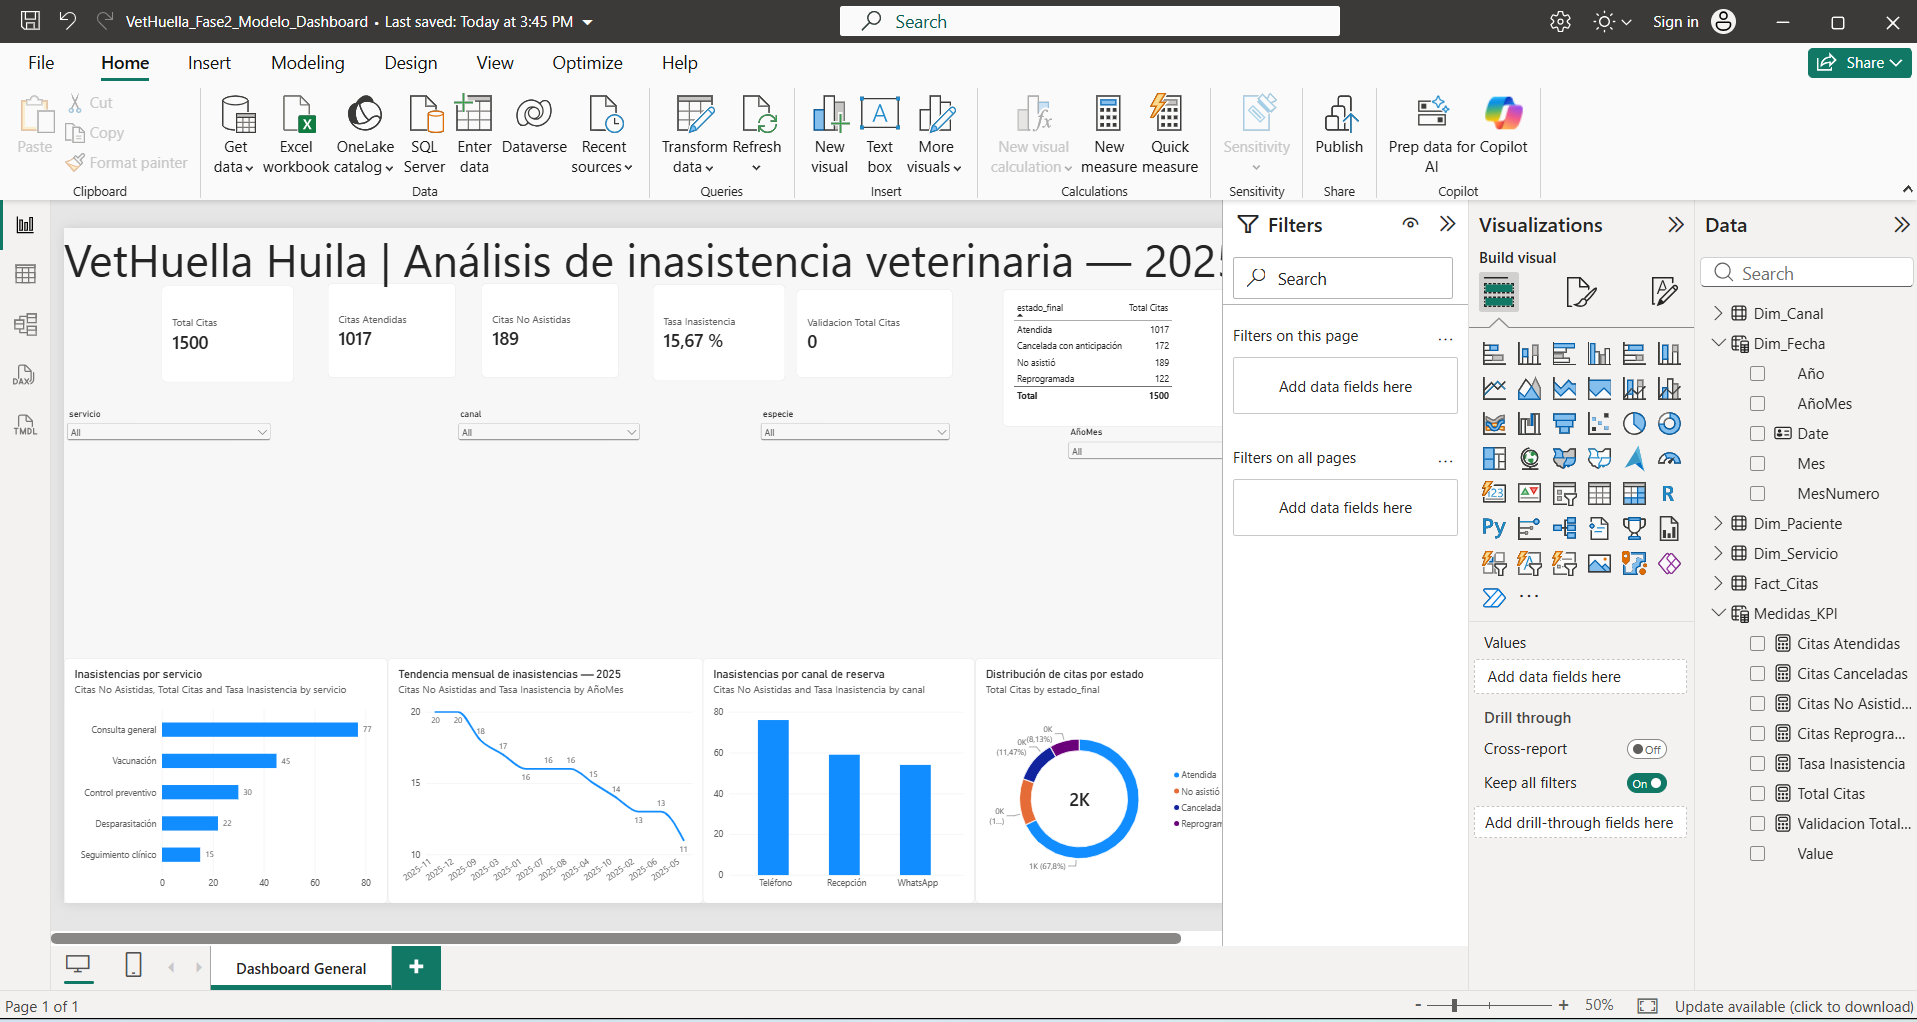

The page's visual inventory and layout, read from the dashboard file:
{"tool":"powerbi","page":{"name":"Dashboard General","canvas":[1920,1080],"ordinal":0},"visuals":[{"type":"cardVisual","fields":{"Data":["Medidas_KPI.Total Citas"]},"box":[155,92.5,212.5,155],"z":0},{"type":"cardVisual","fields":{"Data":["Medidas_KPI.Citas Atendidas"]},"box":[422.5,87.5,205,152.5],"z":1000},{"type":"cardVisual","fields":{"Data":["Medidas_KPI.Citas No Asistidas"]},"box":[667.5,87.5,220,152.5],"z":2000},{"type":"cardVisual","fields":{"Data":["Medidas_KPI.Tasa Inasistencia"]},"box":[942.5,90,212.5,155],"z":3000},{"type":"cardVisual","fields":{"Data":["Medidas_KPI.Validacion Total Citas"]},"box":[1172.5,97.5,250,142.5],"z":4000},{"type":"tableEx","fields":{"Values":["Fact_Citas.estado_final","Medidas_KPI.Total Citas"]},"box":[1502.5,97.5,417.5,220],"z":5000},{"type":"clusteredBarChart","title":"Inasistencias por servicio","fields":{"Category":["Dim_Servicio.servicio"],"Y":["Medidas_KPI.Citas No Asistidas"]},"box":[0,687.5,517.5,392.5],"z":6000},{"type":"lineChart","title":"Tendencia mensual de inasistencias — 2025","fields":{"Category":["Dim_Fecha.AñoMes"],"Y":["Medidas_KPI.Citas No Asistidas"]},"box":[510,687,505,392.5],"z":7000},{"type":"clusteredColumnChart","title":"Inasistencias por canal de reserva","fields":{"Category":["Dim_Canal.canal"],"Y":["Medidas_KPI.Citas No Asistidas"]},"box":[1022.5,687.5,435,392.5],"z":8000},{"type":"donutChart","title":"Distribución de citas por estado","fields":{"Category":["Fact_Citas.estado_final"],"Y":["Medidas_KPI.Total Citas"]},"box":[1458,688,462,392],"z":9000},{"type":"slicer","fields":{"Values":["Dim_Servicio.servicio"]},"box":[0,287.5,335,322.5],"z":10000},{"type":"slicer","fields":{"Values":["Dim_Canal.canal"]},"box":[625,287.5,300,322.5],"z":11000},{"type":"slicer","fields":{"Values":["Dim_Paciente.especie"]},"box":[1110,287.5,312.5,322.5],"z":12000},{"type":"slicer","fields":{"Values":["Dim_Fecha.AñoMes"]},"box":[1602.5,317.5,317.5,322.5],"z":13000},{"type":"textbox","box":[0,0,1920,97.5],"z":14000}]}

Visuals, with their boxes on the page's 1920x1080 design canvas (x1, y1, x2, y2). These are canvas units, not pixel positions in the 1917x1022 screenshot, which may show the page scaled, cropped or inside an application window:
cardVisual - Medidas_KPI.Total Citas: [155,92,368,248]
cardVisual - Medidas_KPI.Citas Atendidas: [422,88,628,240]
cardVisual - Medidas_KPI.Citas No Asistidas: [668,88,888,240]
cardVisual - Medidas_KPI.Tasa Inasistencia: [942,90,1155,245]
cardVisual - Medidas_KPI.Validacion Total Citas: [1172,98,1422,240]
tableEx - Fact_Citas.estado_final x Medidas_KPI.Total Citas: [1502,98,1920,318]
"Inasistencias por servicio" clusteredBarChart: [0,688,518,1080]
"Tendencia mensual de inasistencias — 2025" lineChart: [510,687,1015,1080]
"Inasistencias por canal de reserva" clusteredColumnChart: [1022,688,1458,1080]
"Distribución de citas por estado" donutChart: [1458,688,1920,1080]
slicer - Dim_Servicio.servicio: [0,288,335,610]
slicer - Dim_Canal.canal: [625,288,925,610]
slicer - Dim_Paciente.especie: [1110,288,1422,610]
slicer - Dim_Fecha.AñoMes: [1602,318,1920,640]
textbox: [0,0,1920,98]
